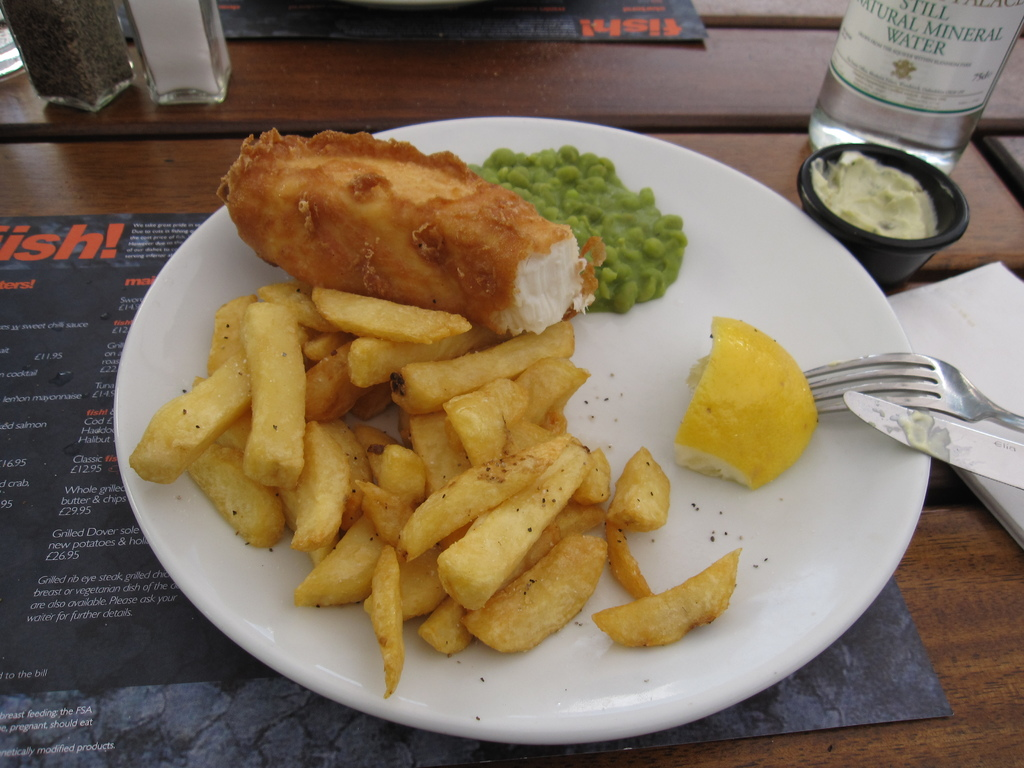French fries: (138, 202, 614, 588)
